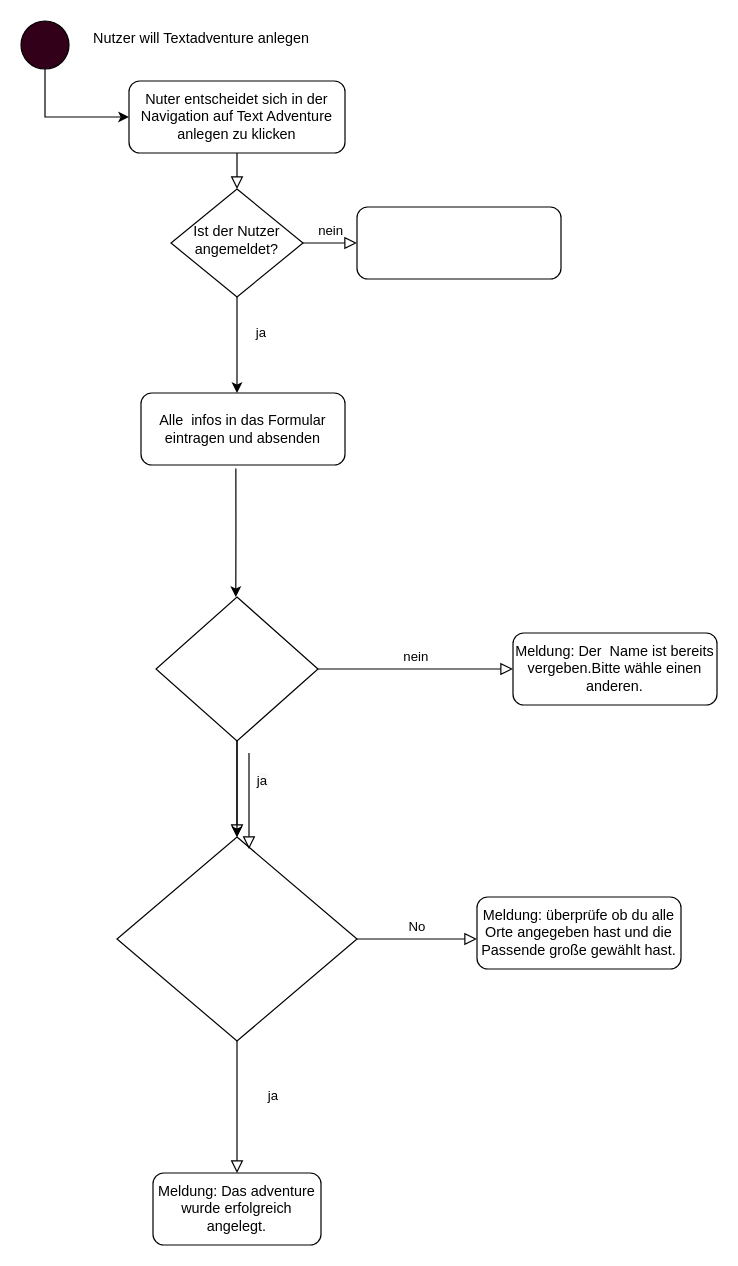
Some shapes in this 738 by 1266 pixel diagram are drawn without their labels. The centre of each missing label's shape, as x and y in pixels:
"Ist der Name des Adventures noch verfügbar?" goes at [236,668].
"Meldung: du musst dich zuerst anmelden oder registrieren" goes at [458,242].
"Passen angegebene große und Anzahl angegeben Orte zusammen ?" goes at [236,938].
